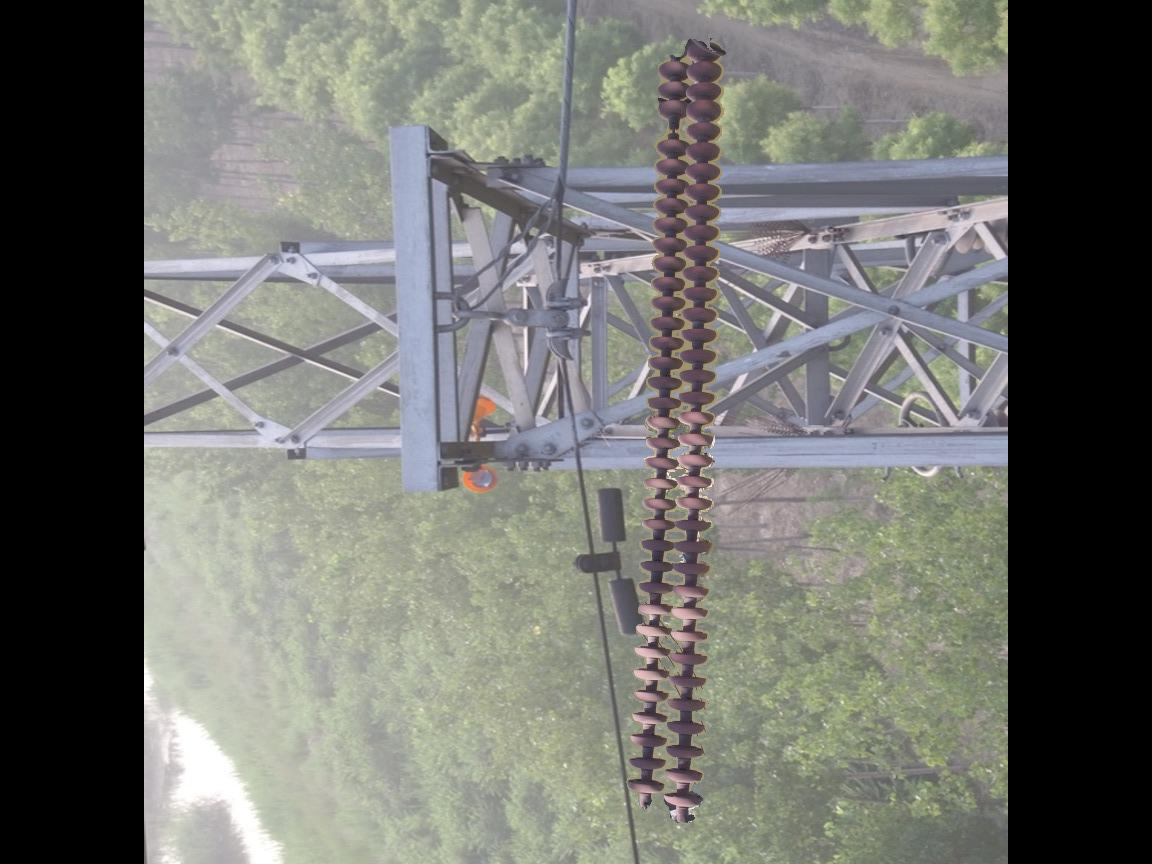insulator: (622, 42, 728, 826)
insulator_stringdrop: (653, 95, 689, 158)
